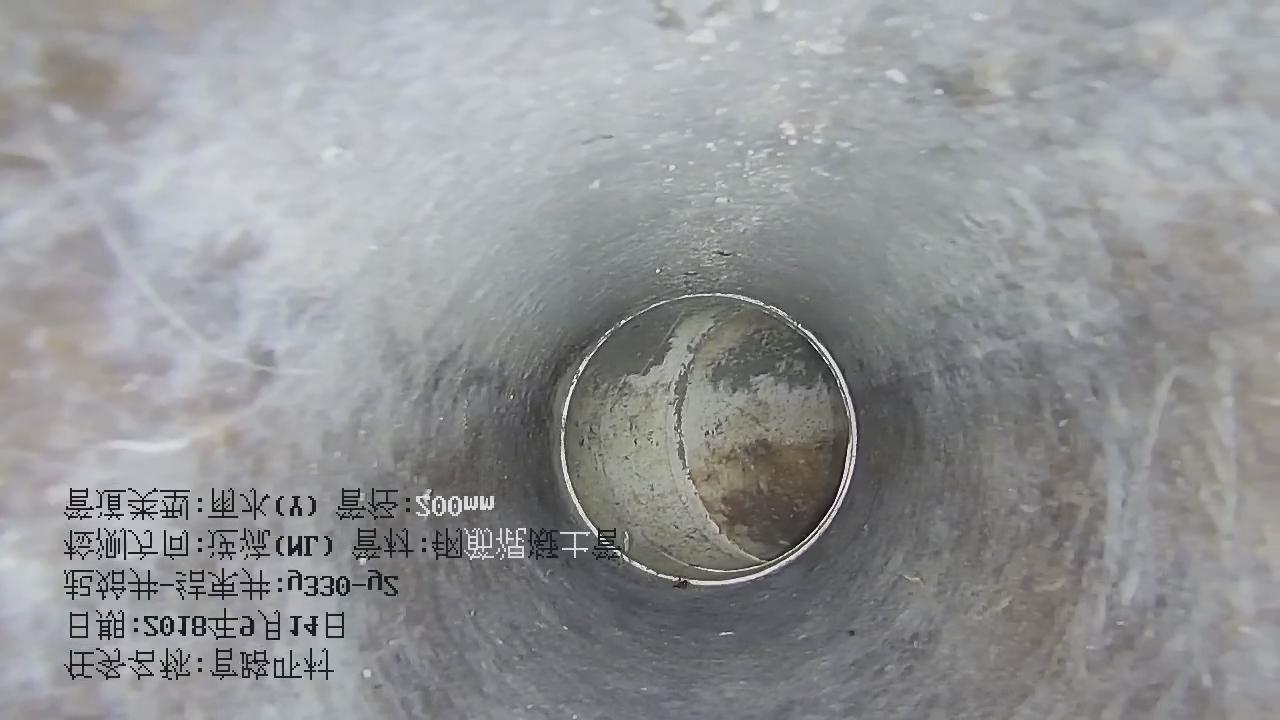CKTJ: (561, 293, 858, 586)
